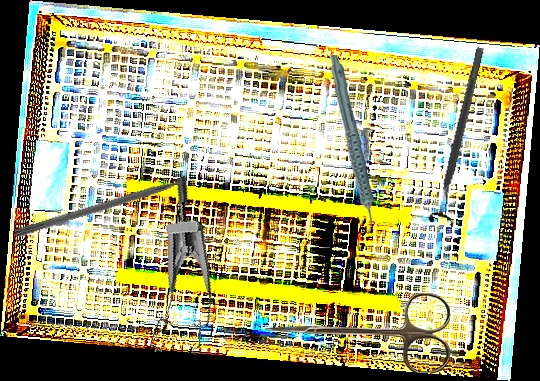Fixation Ring: (426, 44, 495, 228)
Handpiece: (325, 55, 377, 234)
Iris Scissors: (265, 293, 450, 373)
Pusher: (13, 171, 207, 240)
Speculum: (102, 175, 242, 368)
